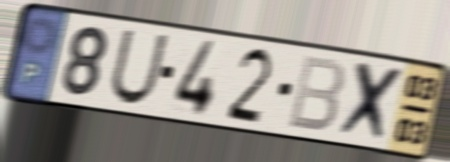2: (225, 46, 276, 126)
4: (170, 37, 217, 119)
8: (59, 23, 109, 99)
B: (285, 53, 347, 135)
U: (107, 27, 171, 107)
X: (334, 59, 408, 147)
